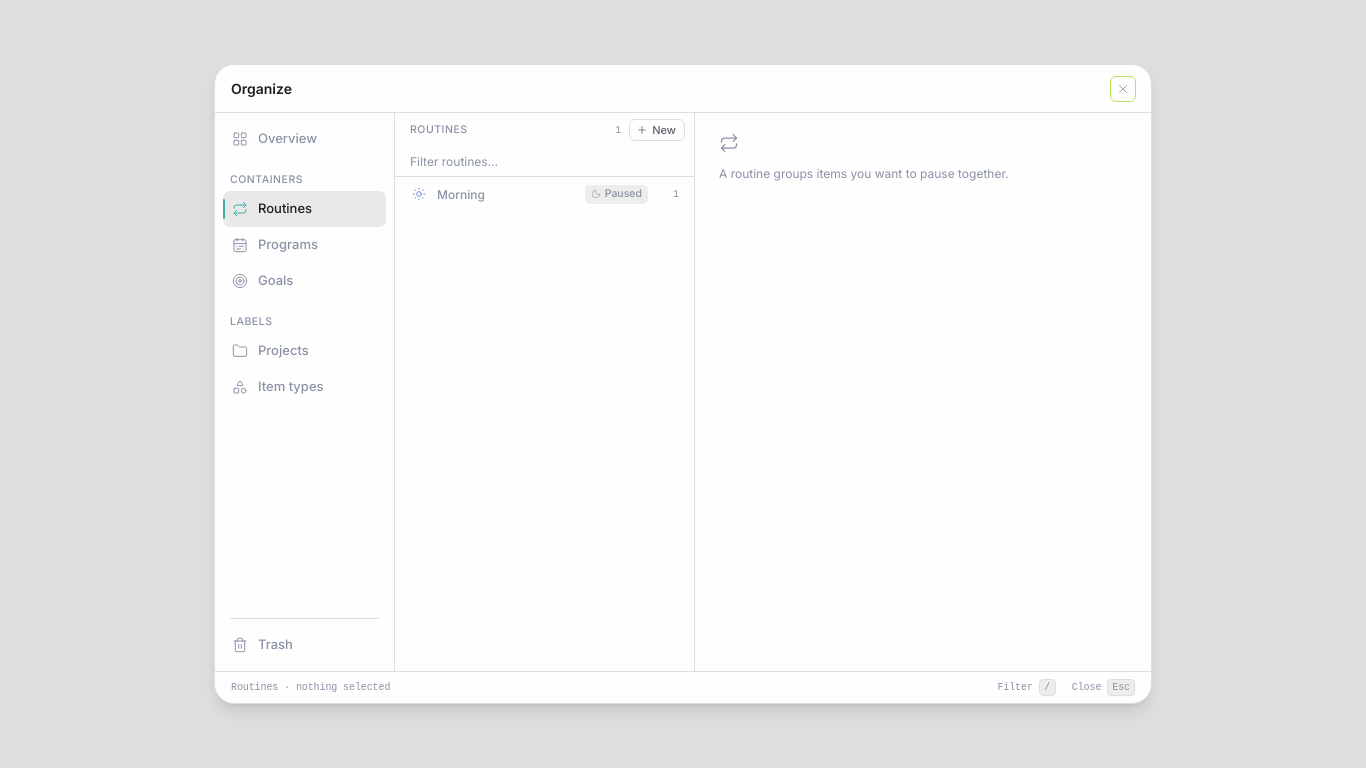
Test: IN N PROGRAMS — the reverse view › never says a live program is CARRYING a routine the user switched off
Click the button with test id "routine-row": {"x": 461, "y": 194} [403, 177, 686, 211]
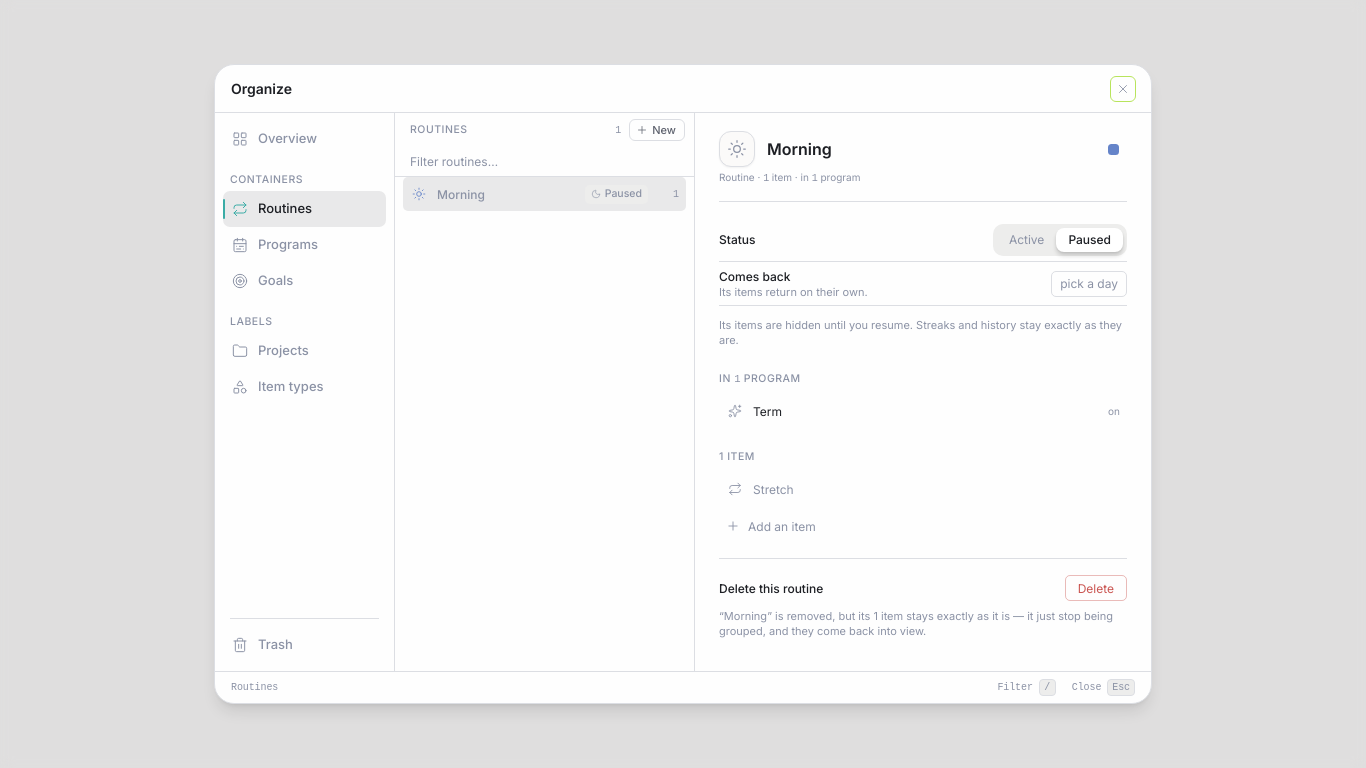
Expected: the button with test id "routine-holder" does not show "carrying", [719, 396, 1127, 426]
Now the text with test id "routine-paused-note" is shown, box [719, 318, 1127, 348]
